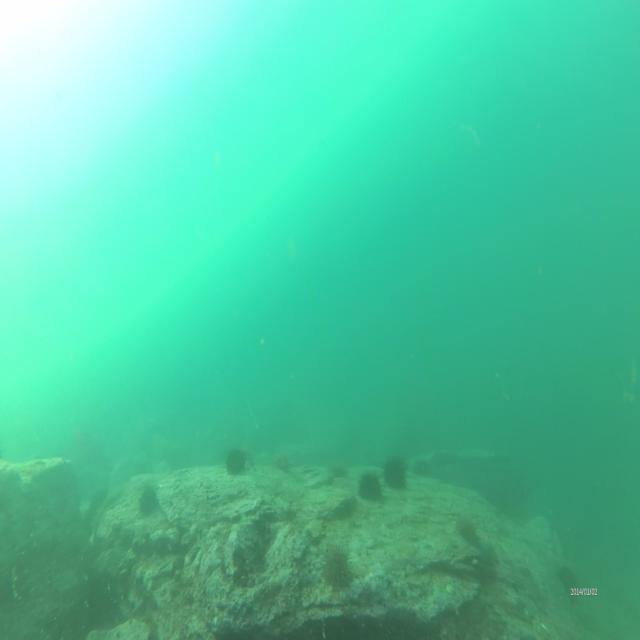echinus: (321, 544, 352, 590), (558, 564, 580, 605), (359, 468, 382, 506), (383, 454, 405, 491), (457, 513, 479, 547), (224, 447, 248, 478), (137, 484, 157, 516)
